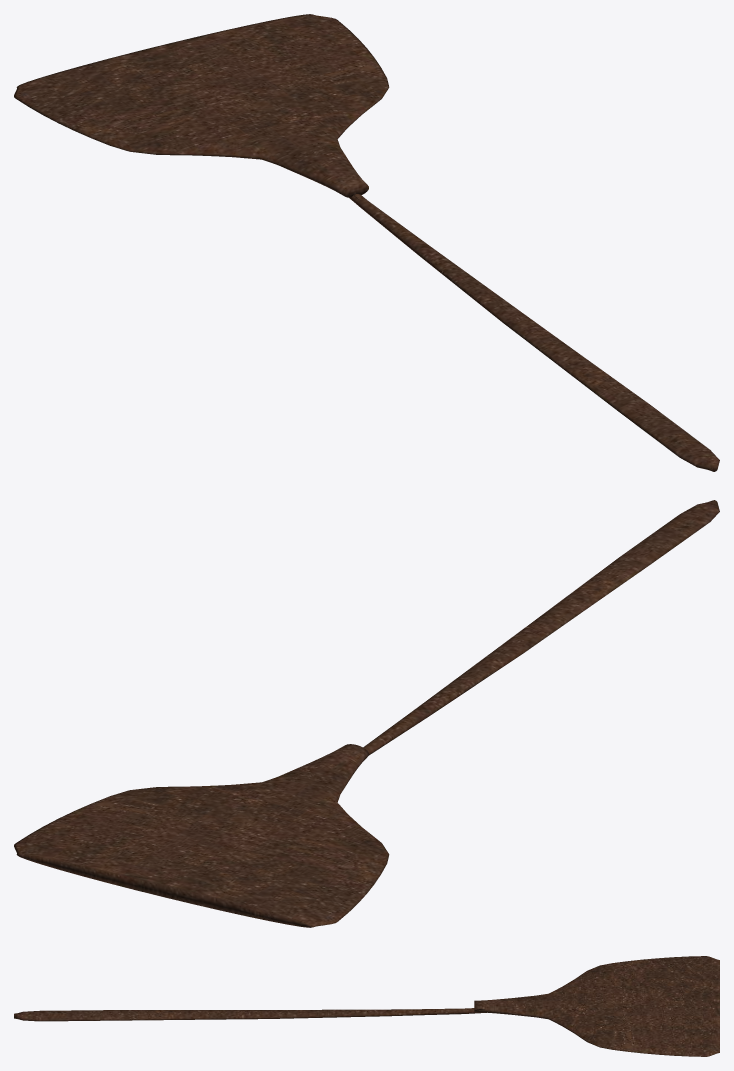
3 renders of one model, top to bottom at view 1: azimuth 30°, elevation 25°; view 2: azimuth 150°, elevation 25°; view 3: azimuth 270°, elevation 25°, orthographic. The views are drawn at different scales.
Visible parts, largest first — view 1: body; view 2: body; view 3: body.
Part boxes in pixels (x1,y1,x2,y2): body: (14,14,719,471); body: (14,500,719,927); body: (14,956,719,1056).
Size of the model in its own units: 0.1063 by 0.00782 by 0.3146.
1 material, 1 textured.
